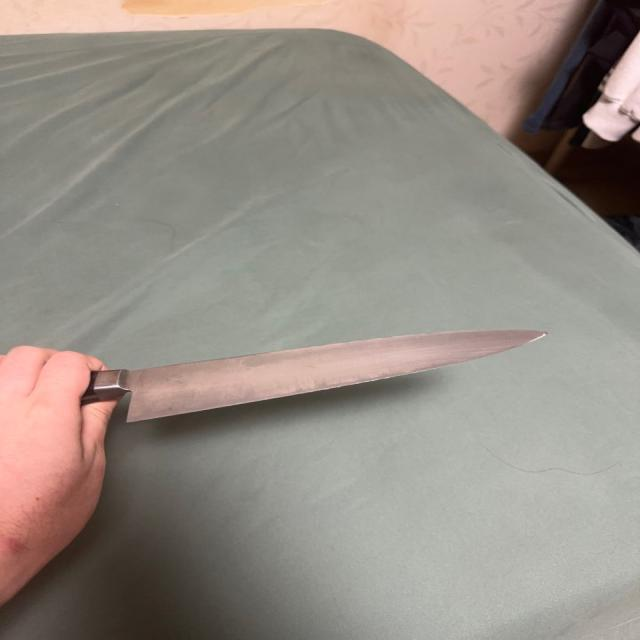knife: (82, 325, 544, 427)
